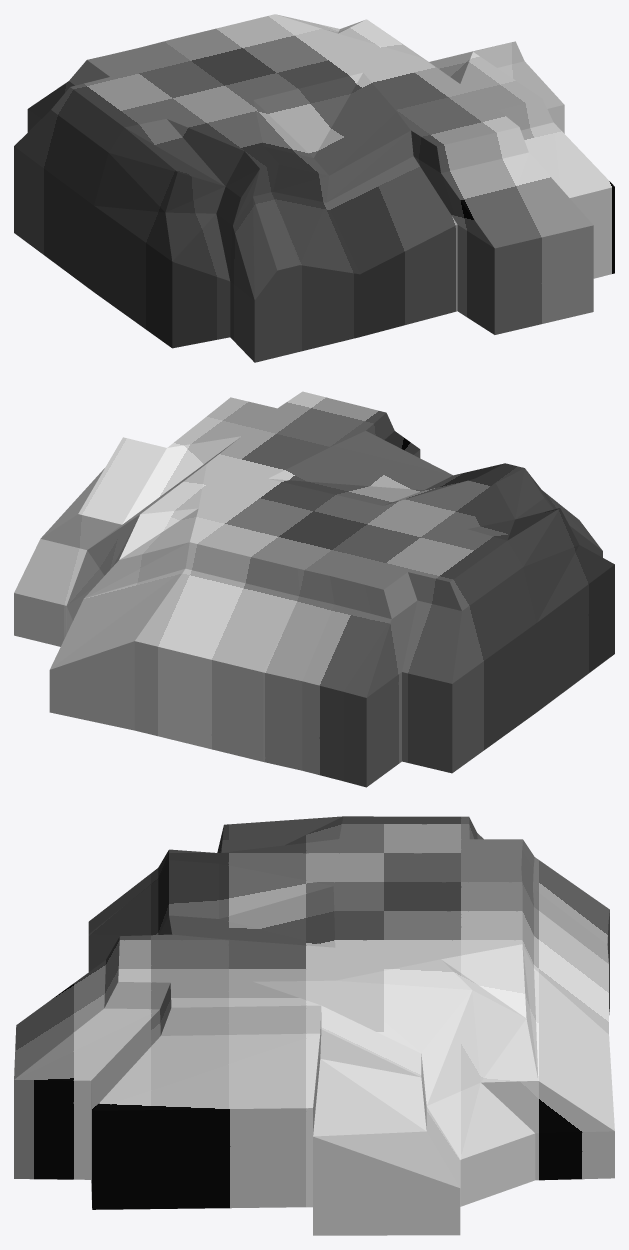
Rendered from rock_331x04.gltf.
The picture shows the model from 3 angles, top to bottom: view 1: azimuth 30°, elevation 25°; view 2: azimuth 150°, elevation 25°; view 3: azimuth 270°, elevation 25°; orthographic projection. The views are drawn at different scales.
Visible parts, largest first — view 1: Rock_331x4; view 2: Rock_331x4; view 3: Rock_331x4.
Boxes of the visible parts, x1,y1,x2,y2 form: Rock_331x4: [14, 14, 614, 362]; Rock_331x4: [14, 391, 614, 787]; Rock_331x4: [14, 816, 614, 1235].
Bounding box in the file's own units: 0.598 × 0.1984 × 0.5968.
Materials: 1 (1 with a texture image).
